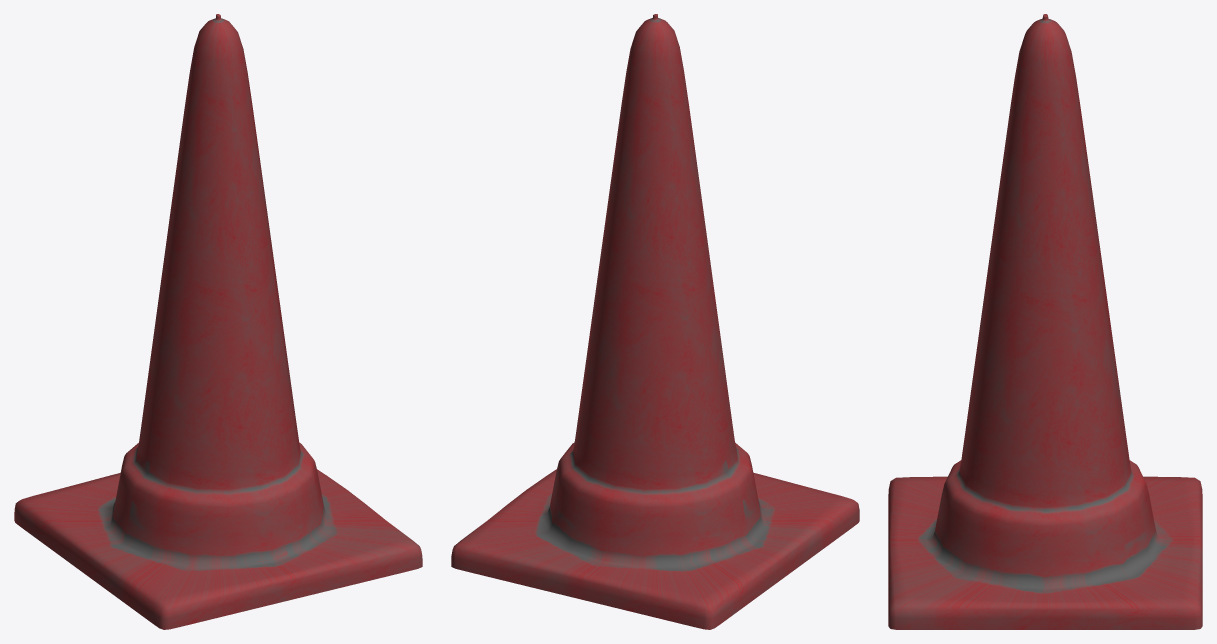
The model's file is ColorCone_Basic_Dirty_Red_NoWeight.fbx.
3 views of the same model, side by side, from view 1: azimuth 30°, elevation 25°; view 2: azimuth 150°, elevation 25°; view 3: azimuth 270°, elevation 25° (orthographic). The views are drawn at different scales.
Visible parts, largest first — view 1: ColorCone_Basic_Dirty_Red_NoWeight; view 2: ColorCone_Basic_Dirty_Red_NoWeight; view 3: ColorCone_Basic_Dirty_Red_NoWeight.
Part boxes in pixels (x1,y1,x2,y2): ColorCone_Basic_Dirty_Red_NoWeight: (14,14,422,629); ColorCone_Basic_Dirty_Red_NoWeight: (451,14,859,629); ColorCone_Basic_Dirty_Red_NoWeight: (888,14,1202,629).
Bounding box in the file's own units: 38 × 38 × 73.14.
Materials: 1 (1 with a texture image).
